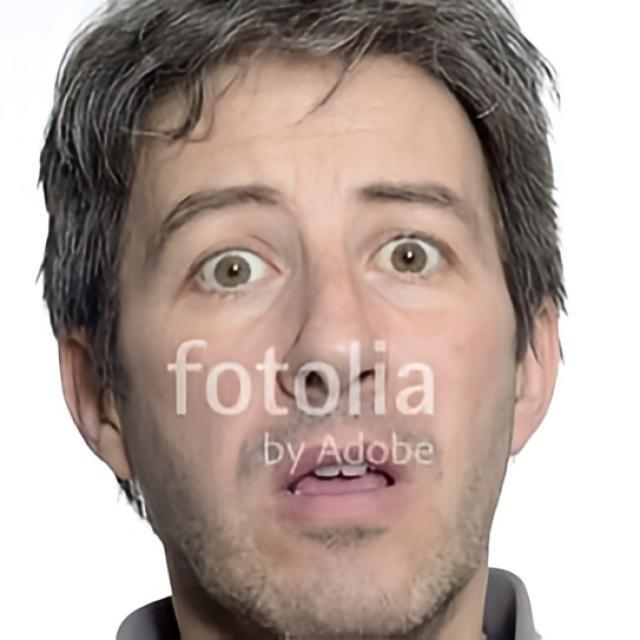fear: (110, 38, 518, 640)
